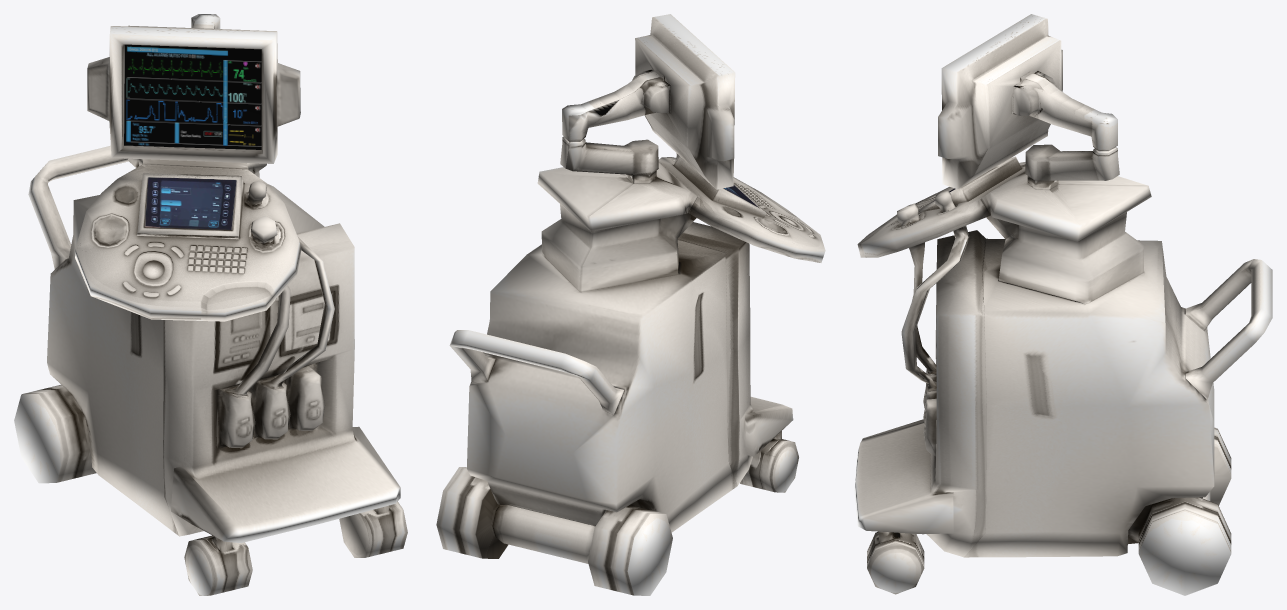
Rendered from heartDevice.fbx.
3 renders of one model, left to right at view 1: azimuth 30°, elevation 25°; view 2: azimuth 150°, elevation 25°; view 3: azimuth 270°, elevation 25°, orthographic. The views are drawn at different scales.
Parts seen in each view (by area): view 1: polySurface11; view 2: polySurface11; view 3: polySurface11.
Part boxes in pixels (<box>): polySurface11: <box>14,14,407,595</box>; polySurface11: <box>436,14,825,595</box>; polySurface11: <box>854,14,1272,595</box>.
Size of the model in its own units: 30.73 by 54.46 by 42.67.
